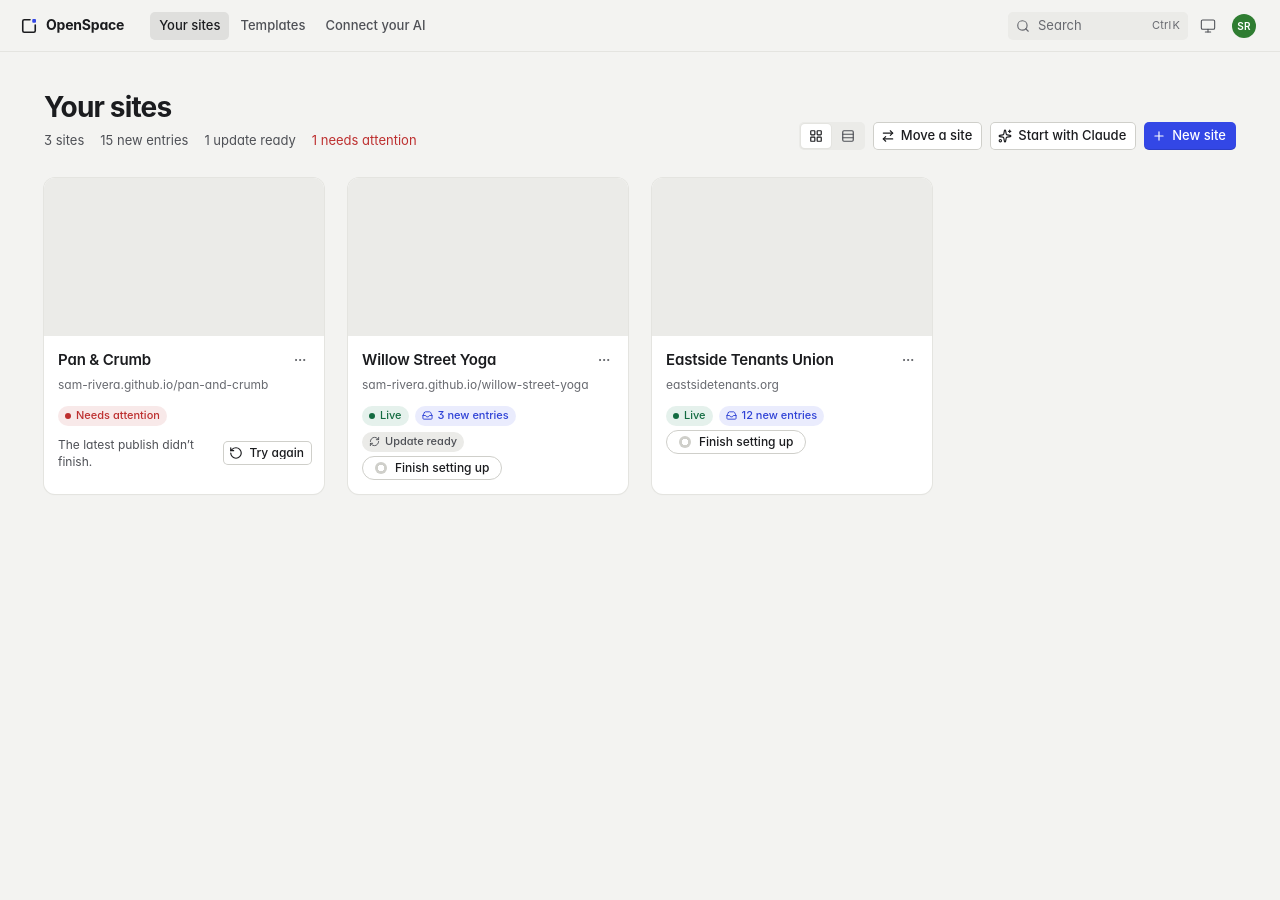
it: UI copy avoids Git vocabulary › dashboard cards, gardener table and menus
The image size is (1280, 900).
Check: the element "Willow Street Yoga" is shown, box [348,178,628,494]
Click the radio button named "Site Gardener table". click: (848, 136)
box: [833,124,863,148]
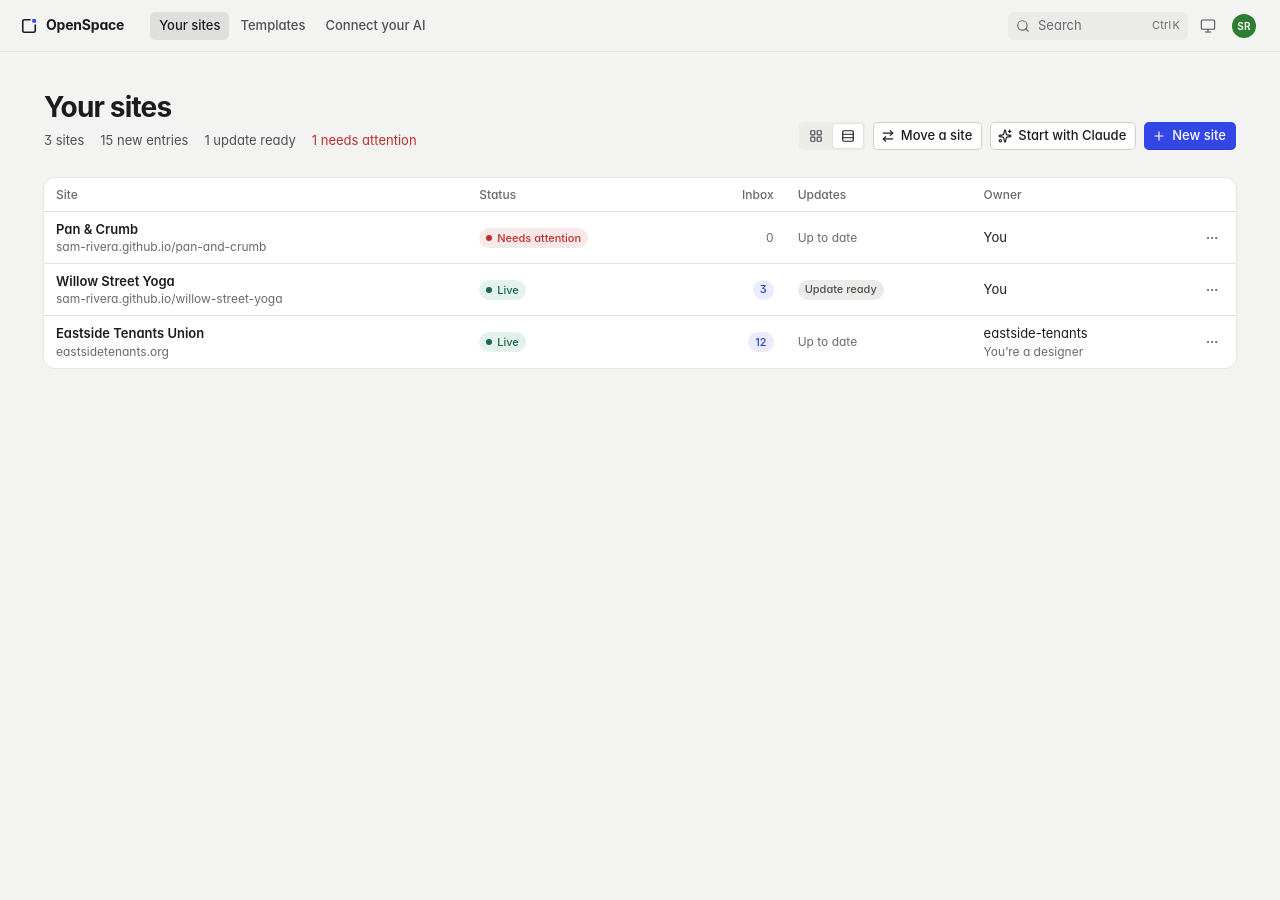
Click the button named "More actions for Willow Street Yoga". click: (1212, 290)
box: [1200,278,1224,302]
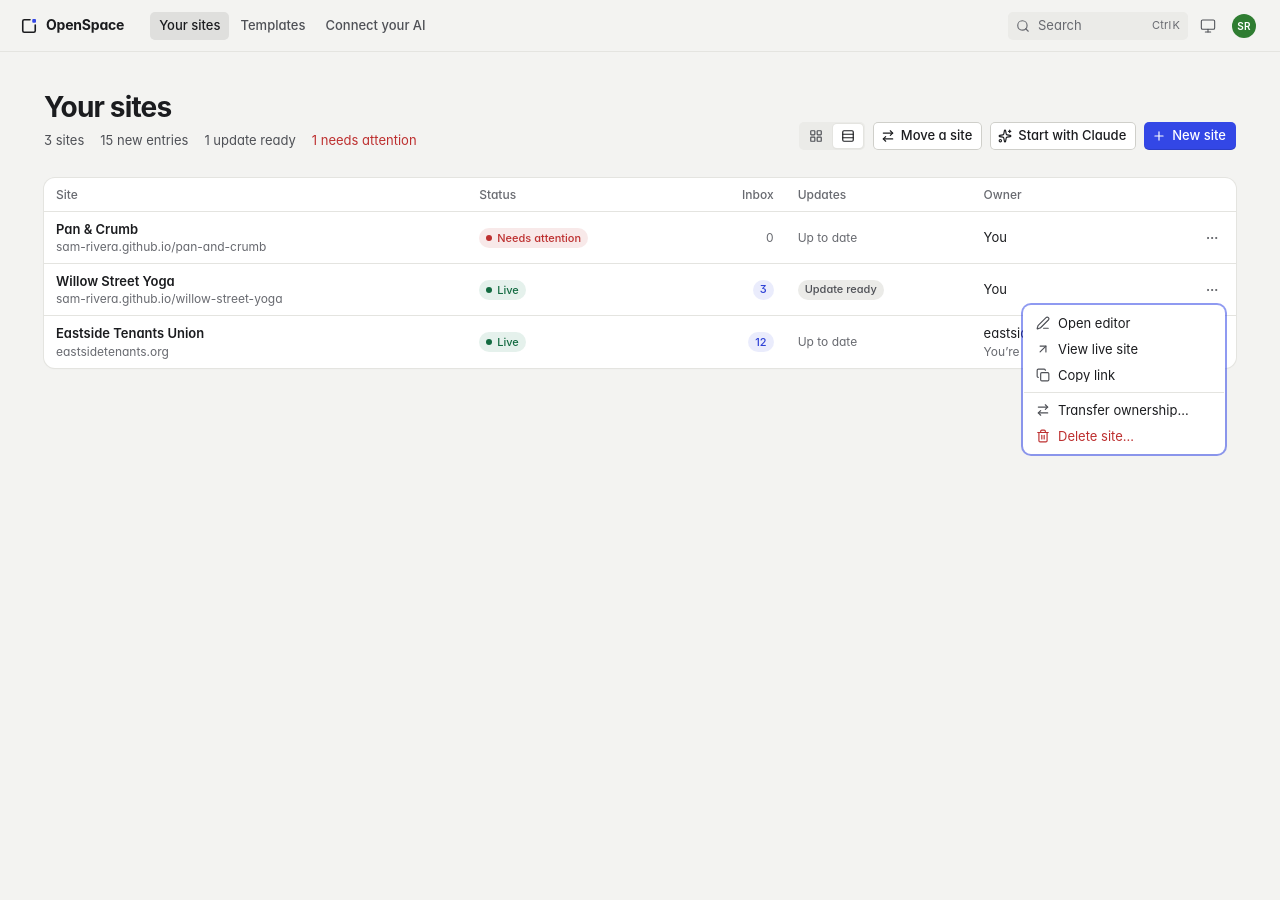
Click the menu item "Transfer ownership…". click: (1112, 410)
box: [1036,402,1189,418]
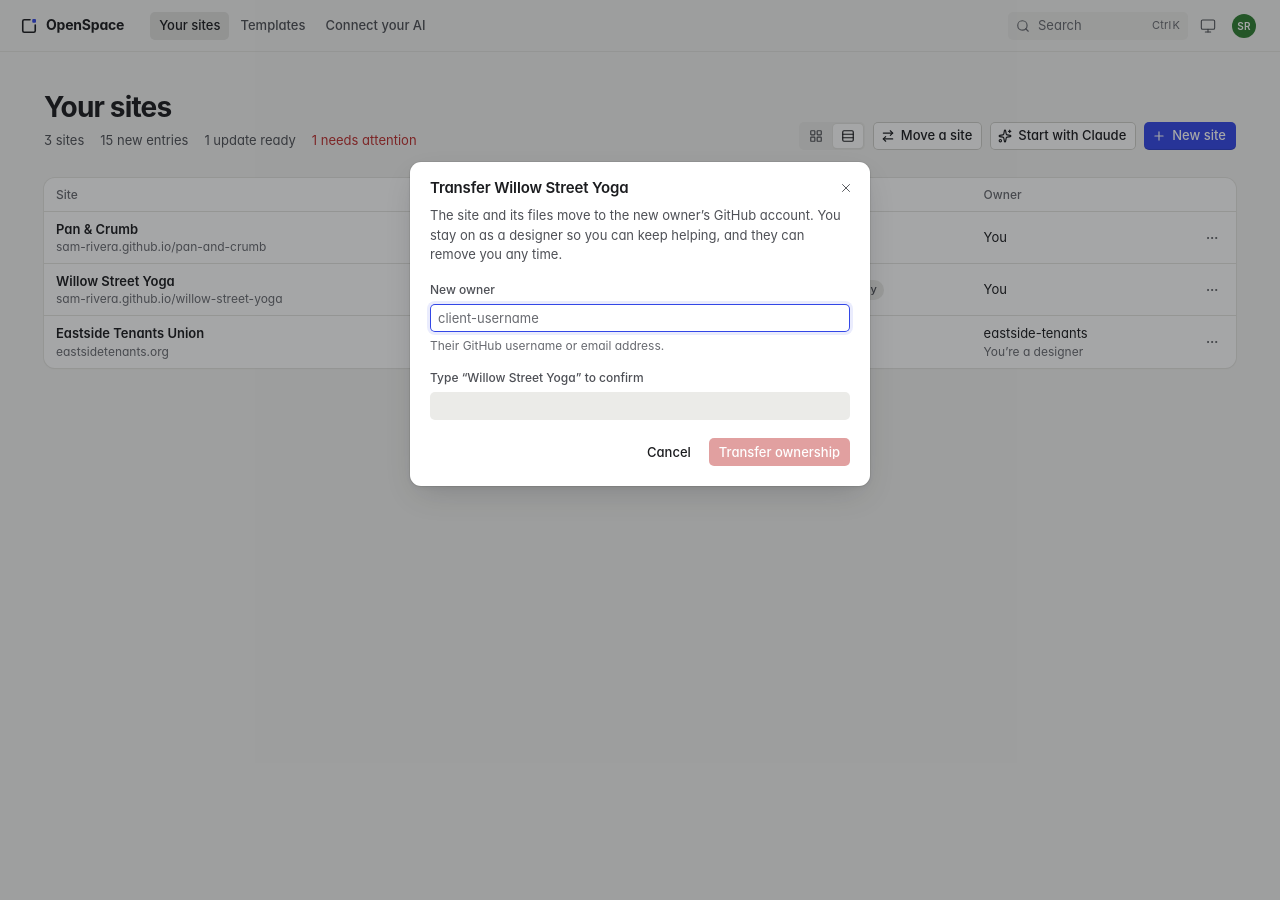
Check: the dialog is shown, box [410,162,870,486]
